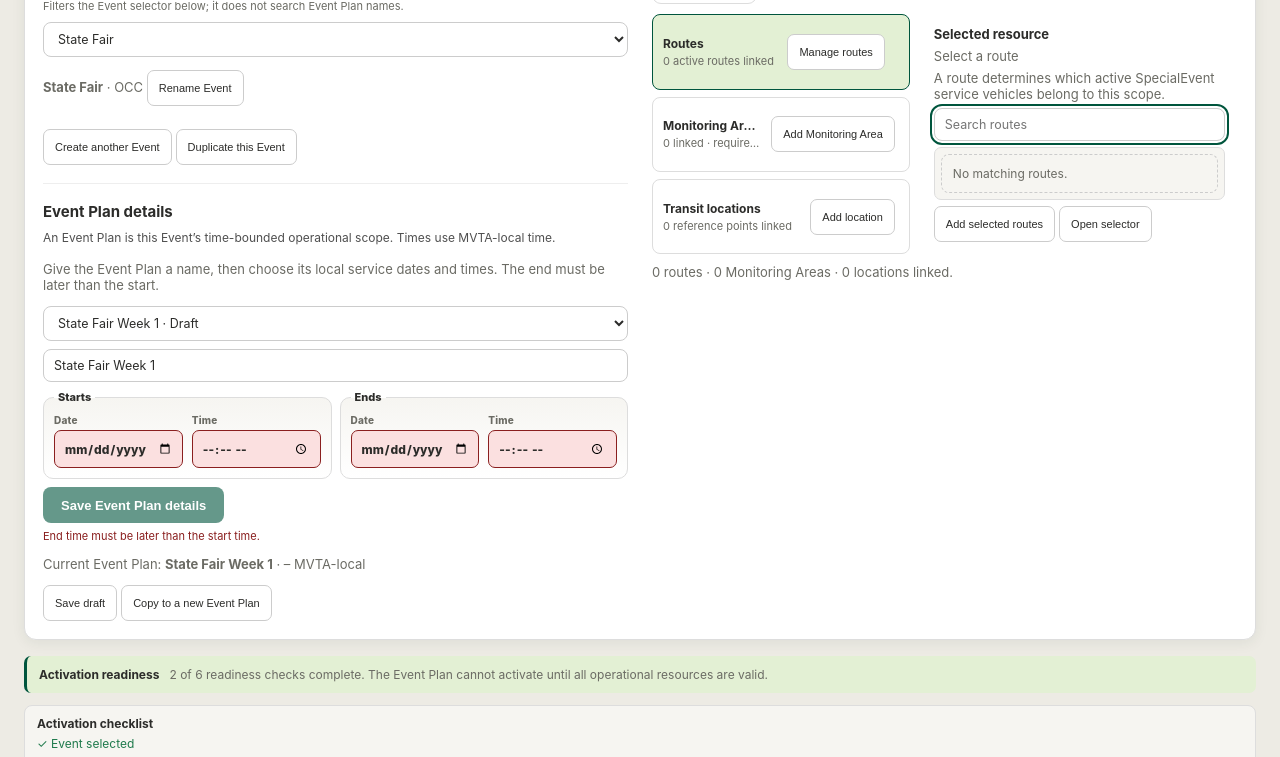
EventPlanning › switching Events with unsaved operating-period edits › asks for confirmation before switching Events
The width and height of the screenshot is (1280, 757).
(page scrolled)
Replace the text in the field showing "State Fair Week 1" with "Edited but unsaved" at [336, 366], box x1=43 y1=349 x2=628 y2=382
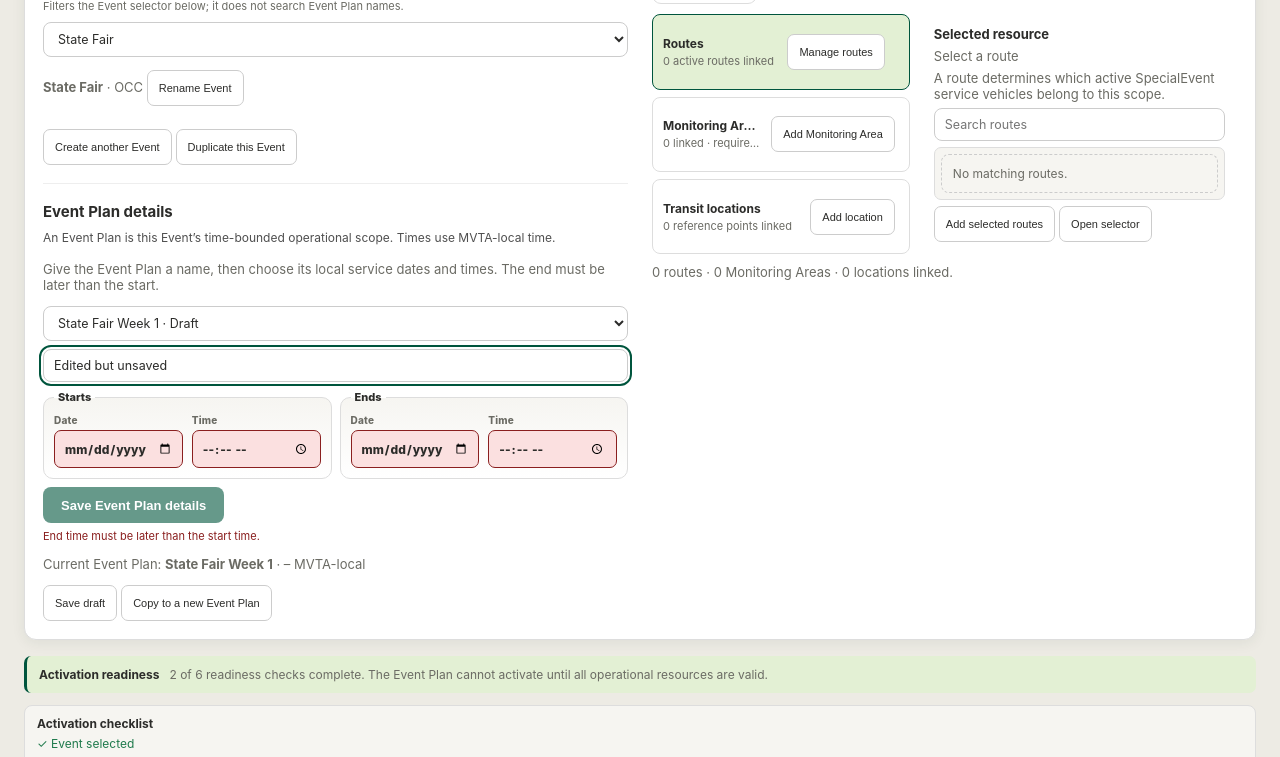
Select "Winter Market" in the dropdown named "Selected Event" at [336, 40], box x1=43 y1=22 x2=628 y2=57
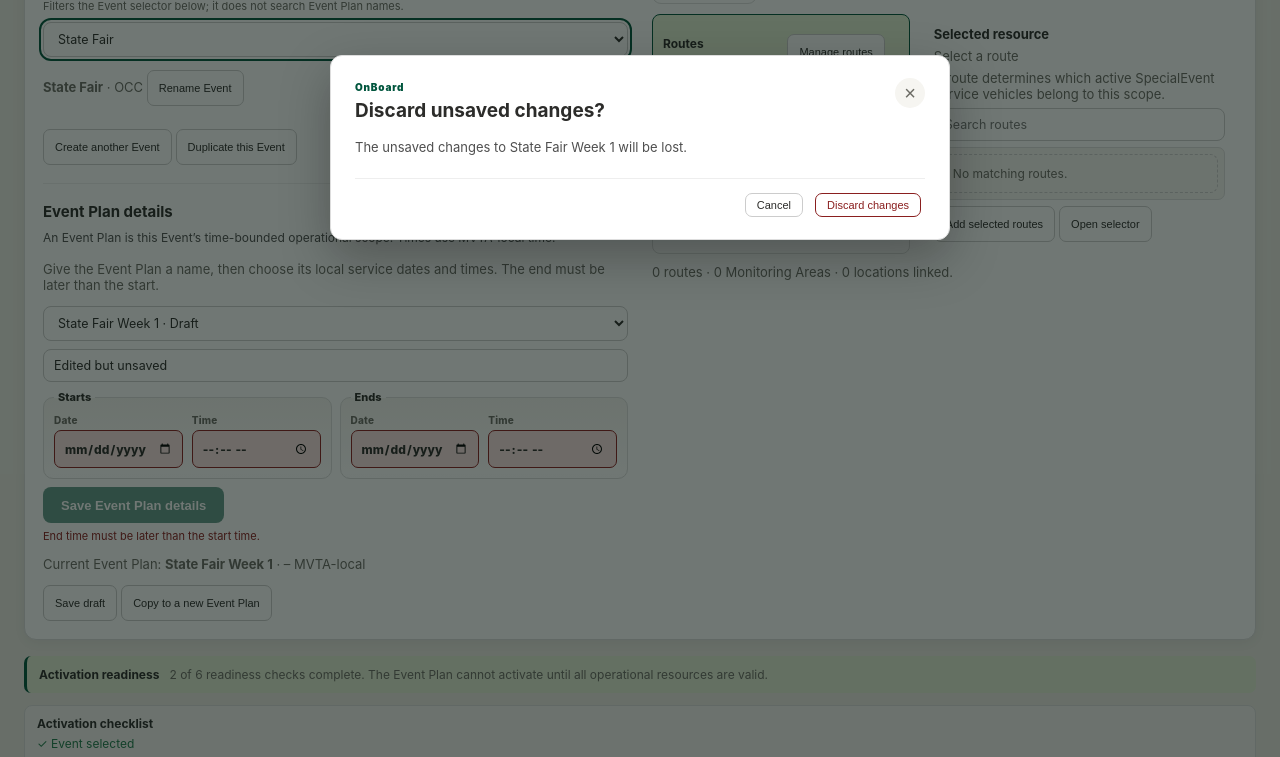
expect the dialog "Discard unsaved changes?" shows "State Fair Week 1": met, box x1=355 y1=139 x2=687 y2=155
